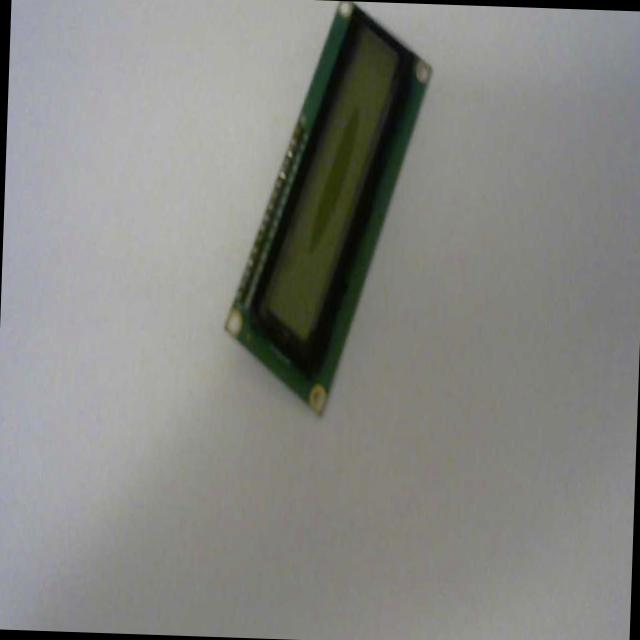lcd: (219, 0, 435, 419)
